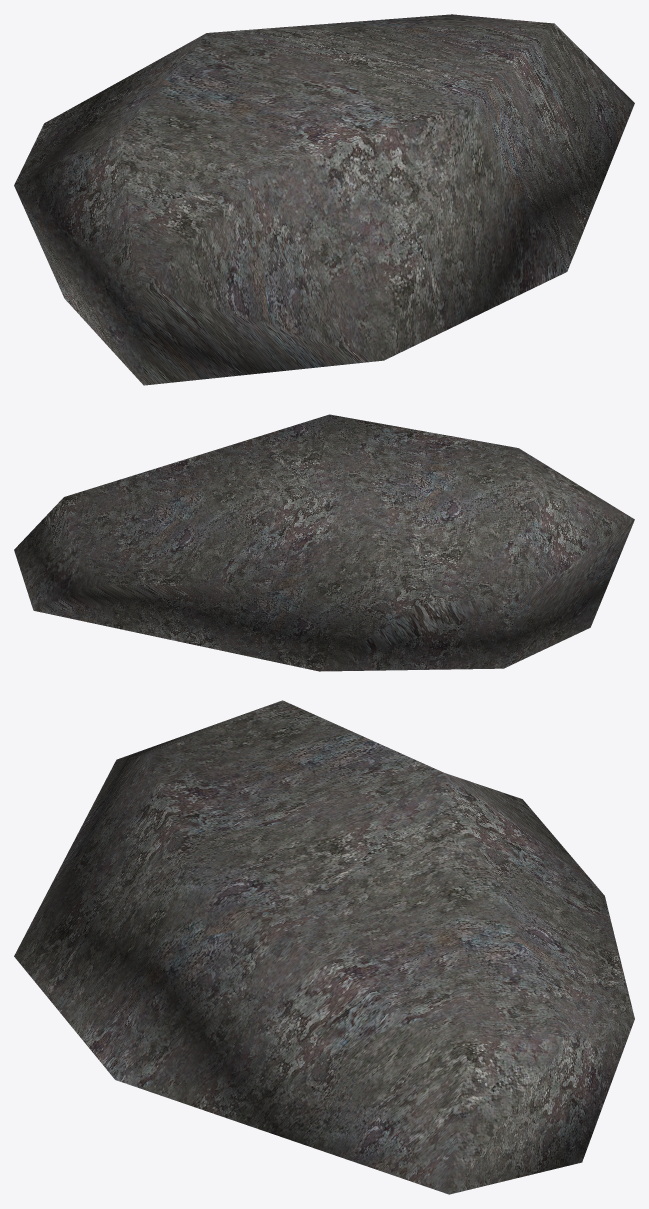
The model's file is rock_forestriverrock_lg_l4.fbx.
The picture shows the model from 3 angles, top to bottom: view 1: azimuth 30°, elevation 25°; view 2: azimuth 150°, elevation 25°; view 3: azimuth 270°, elevation 25°; orthographic projection. The views are drawn at different scales.
Visible parts, largest first — view 1: mesh_node; view 2: mesh_node; view 3: mesh_node.
Boxes of the visible parts, box(x1,y1,x2,y2) form: mesh_node: box(14, 14, 634, 385); mesh_node: box(14, 414, 634, 671); mesh_node: box(14, 700, 634, 1194).
Bounding box in the file's own units: 3.41 × 1.1 × 2.61.
1 material, 1 textured.
